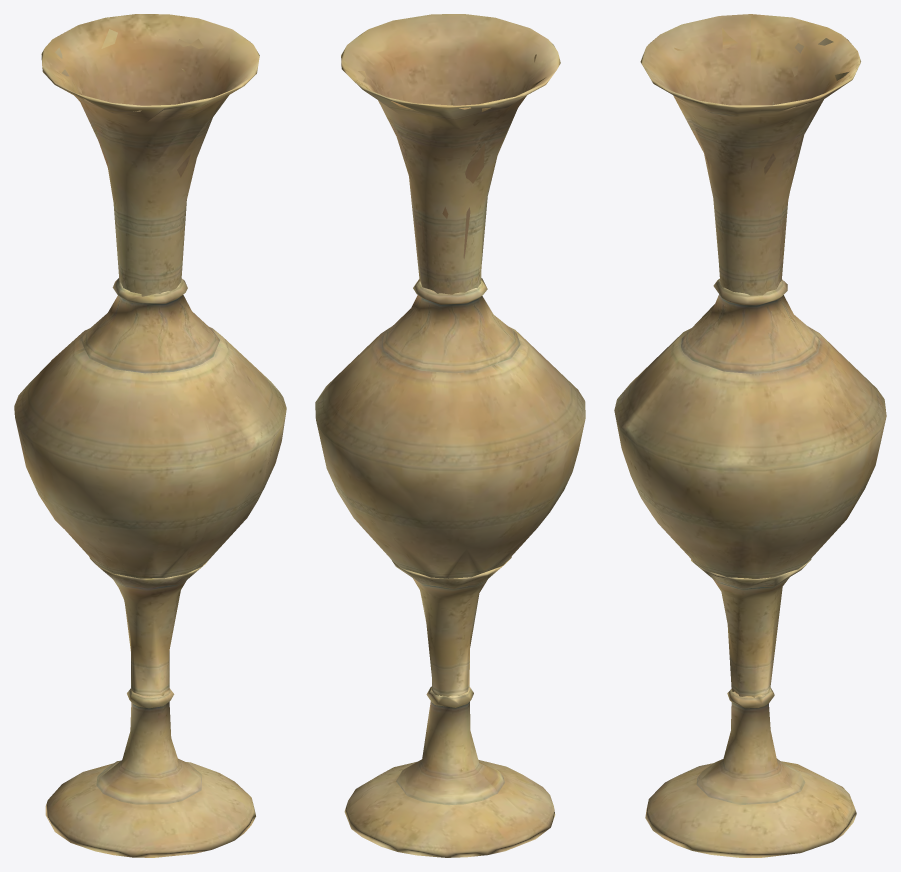
Rendered from brass_vase_01.glb.
3 renders of one model, left to right at view 1: azimuth 30°, elevation 25°; view 2: azimuth 150°, elevation 25°; view 3: azimuth 270°, elevation 25°, orthographic.
Visible parts, largest first — view 1: brass_vase_01; view 2: brass_vase_01; view 3: brass_vase_01.
Part boxes in pixels (<box>): brass_vase_01: <box>14,14,286,857</box>; brass_vase_01: <box>315,14,585,857</box>; brass_vase_01: <box>614,14,886,857</box>.
Size of the model in its own units: 0.2267 by 0.6925 by 0.2267.
Materials: 1 (1 with a texture image).
